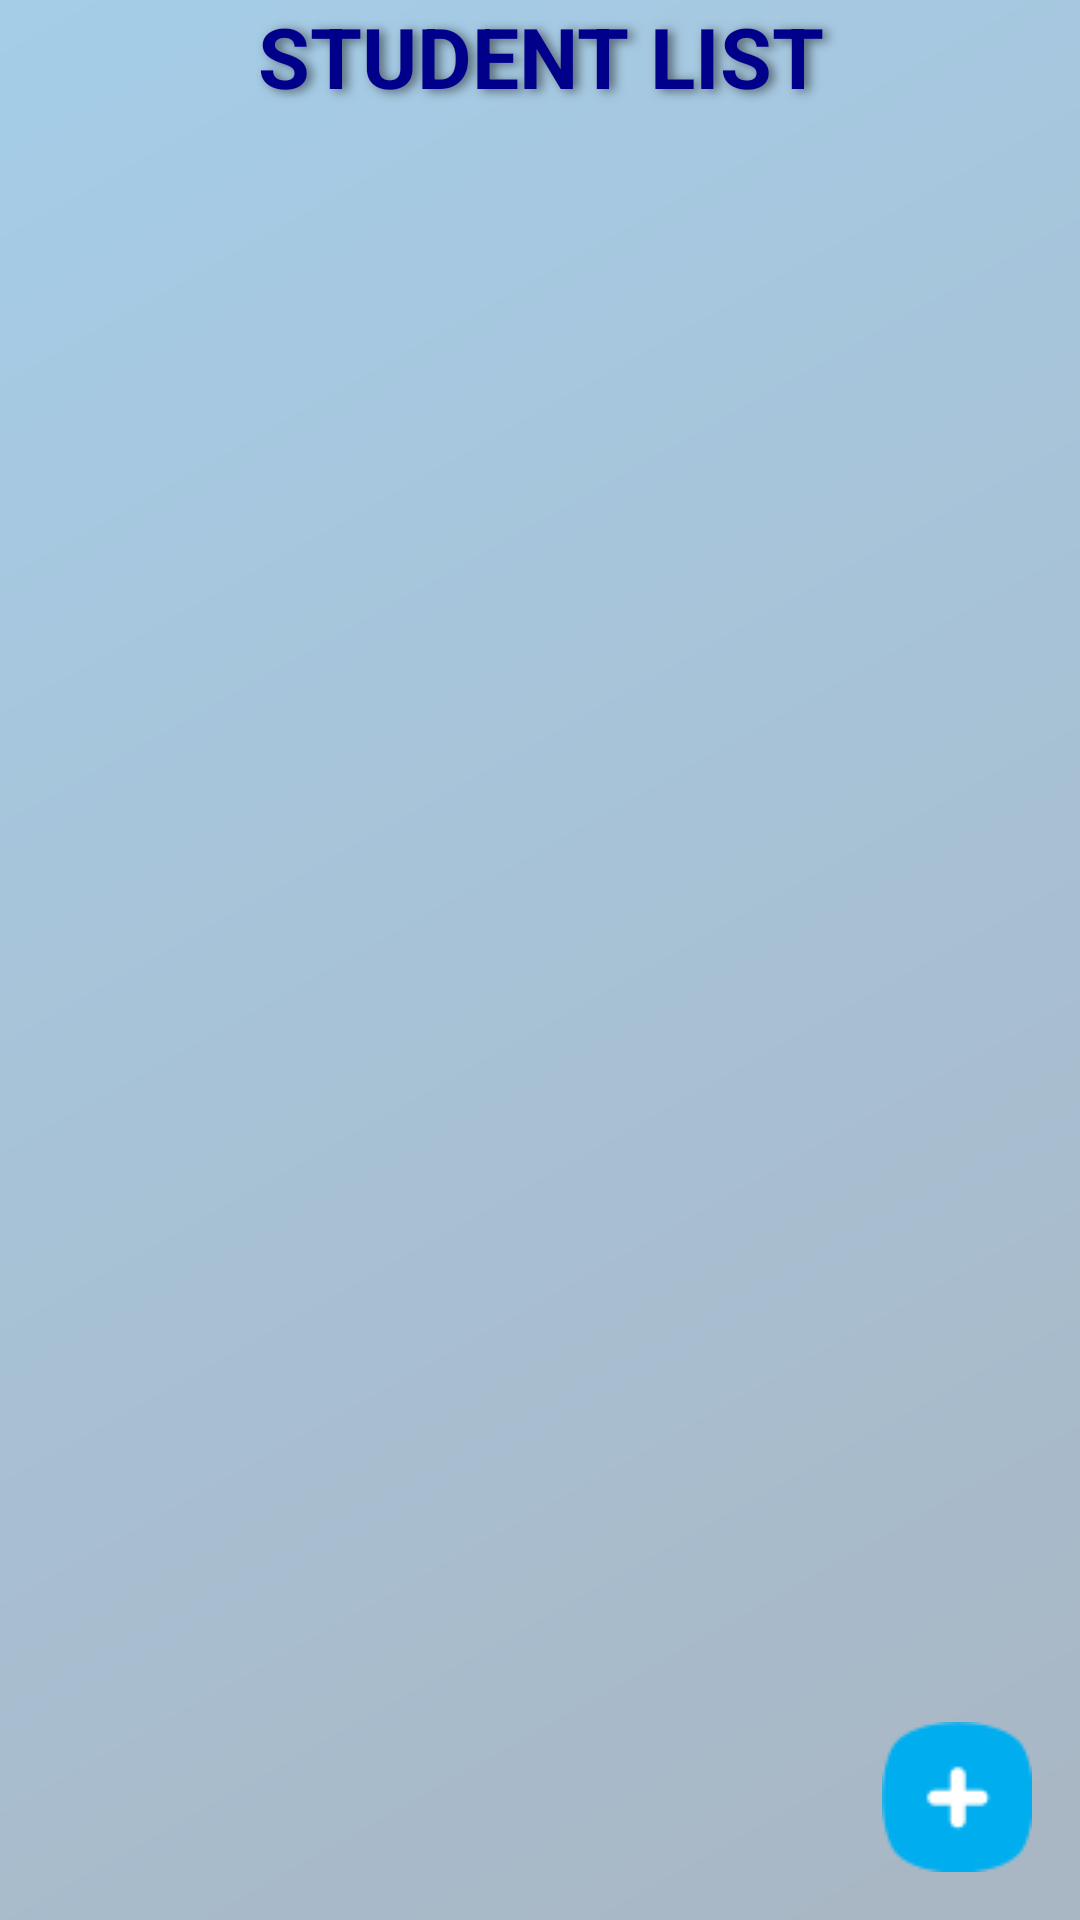

Point at icon controls on the screen. Image size 1080×1920, points as point (x, y).
Thêm sinh viên mới: point (957, 1797)
